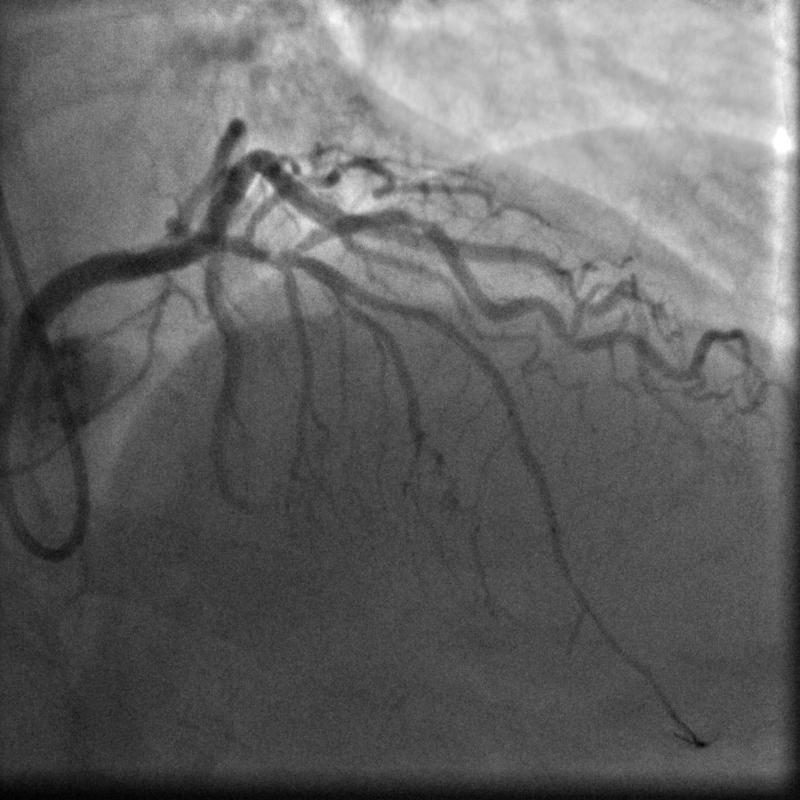Stenosis: (389, 197, 441, 237)
